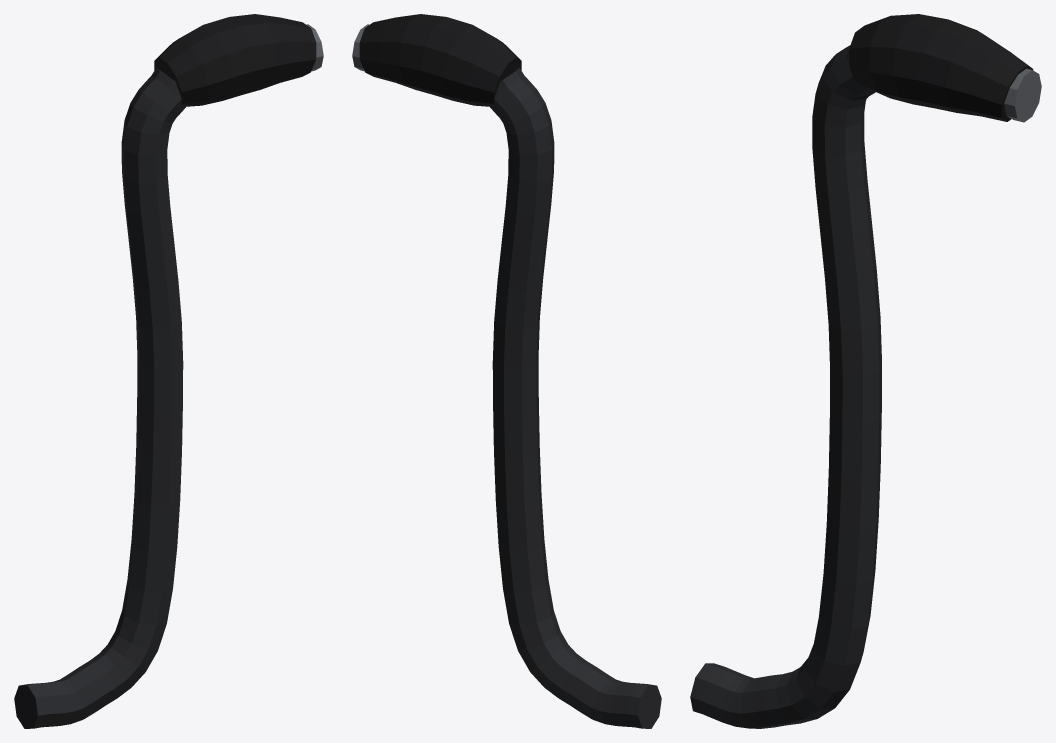
Rendered from MinidoracatTesla_CablePlugModel3.fbx.
3 renders of one model, left to right at view 1: azimuth 30°, elevation 25°; view 2: azimuth 150°, elevation 25°; view 3: azimuth 330°, elevation 25°, orthographic. The views are drawn at different scales.
Visible parts, largest first — view 1: MinidoracatTesla_CablePlugModel3; view 2: MinidoracatTesla_CablePlugModel3; view 3: MinidoracatTesla_CablePlugModel3.
Part boxes in pixels (x1,y1,x2,y2): MinidoracatTesla_CablePlugModel3: (14, 14, 323, 728); MinidoracatTesla_CablePlugModel3: (352, 14, 661, 728); MinidoracatTesla_CablePlugModel3: (690, 14, 1041, 728).
Size of the model in its own units: 0.3639 by 0.7993 by 0.088.
